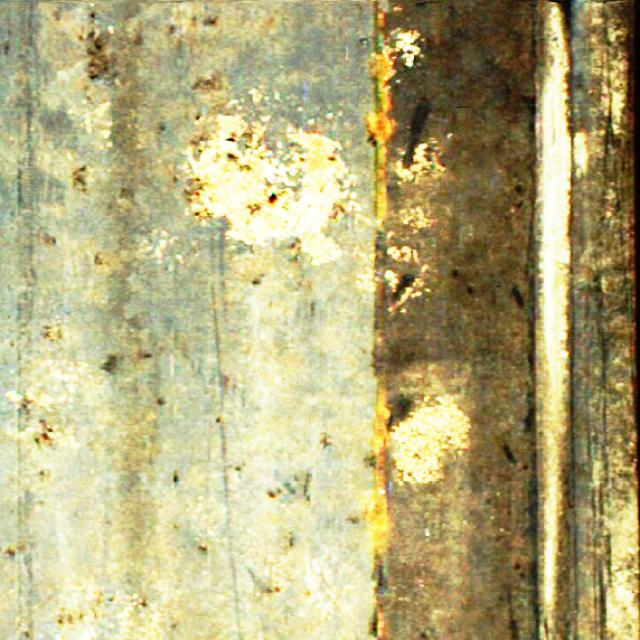Corrosion: (369, 48, 393, 221), (366, 393, 391, 546), (376, 8, 387, 30)
